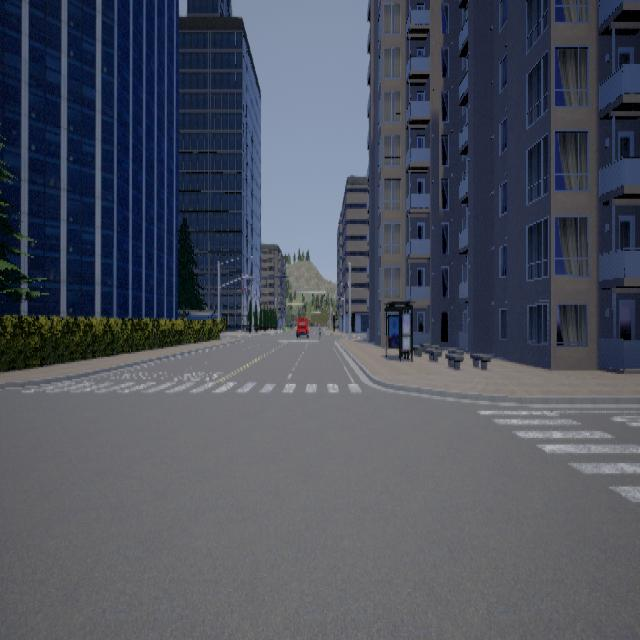traffic_light: (342, 280, 346, 292), (346, 305, 348, 313)
vehicle: (295, 315, 308, 337)
